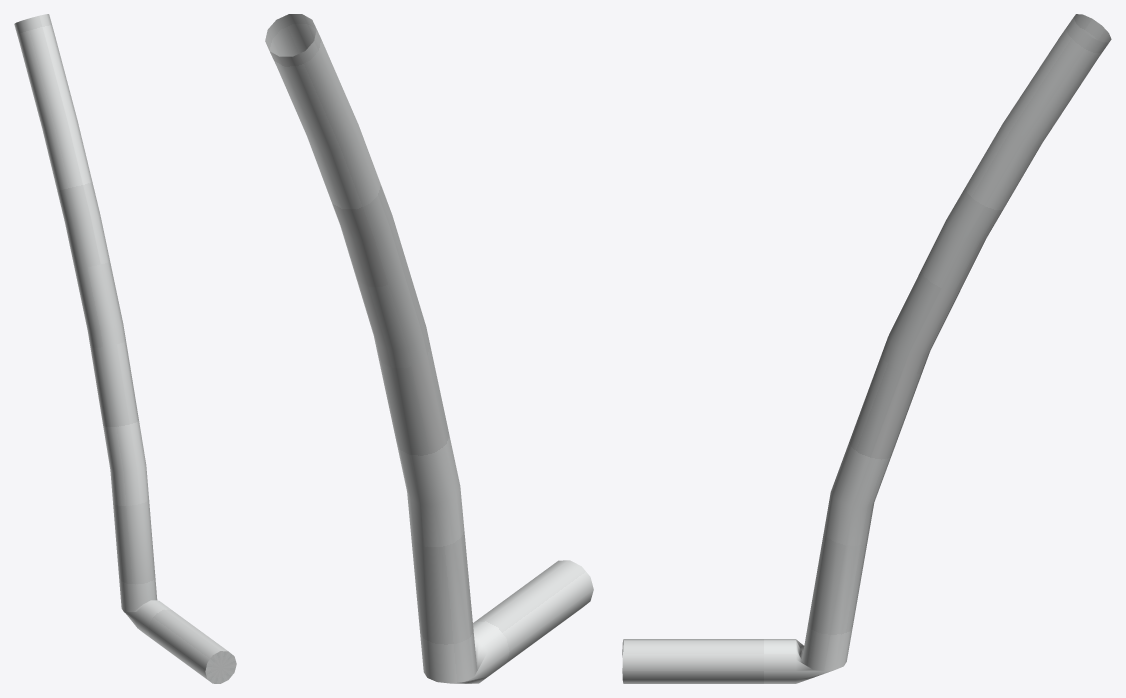
The model's file is luminairearm_laupsweep10ft_c1_thin.obj.
3 views of the same model, side by side, from view 1: azimuth 30°, elevation 25°; view 2: azimuth 150°, elevation 25°; view 3: azimuth 270°, elevation 25° (orthographic). The views are drawn at different scales.
Parts seen in each view (by area): view 1: luminairearm_laupsweep10ft_c1_thin; view 2: luminairearm_laupsweep10ft_c1_thin; view 3: luminairearm_laupsweep10ft_c1_thin.
Part boxes in pixels (<box>): luminairearm_laupsweep10ft_c1_thin: <box>14,14,236,683</box>; luminairearm_laupsweep10ft_c1_thin: <box>265,14,593,683</box>; luminairearm_laupsweep10ft_c1_thin: <box>622,14,1111,683</box>.
Bounding box in the file's own units: 0.0562 × 0.9142 × 0.6098.
